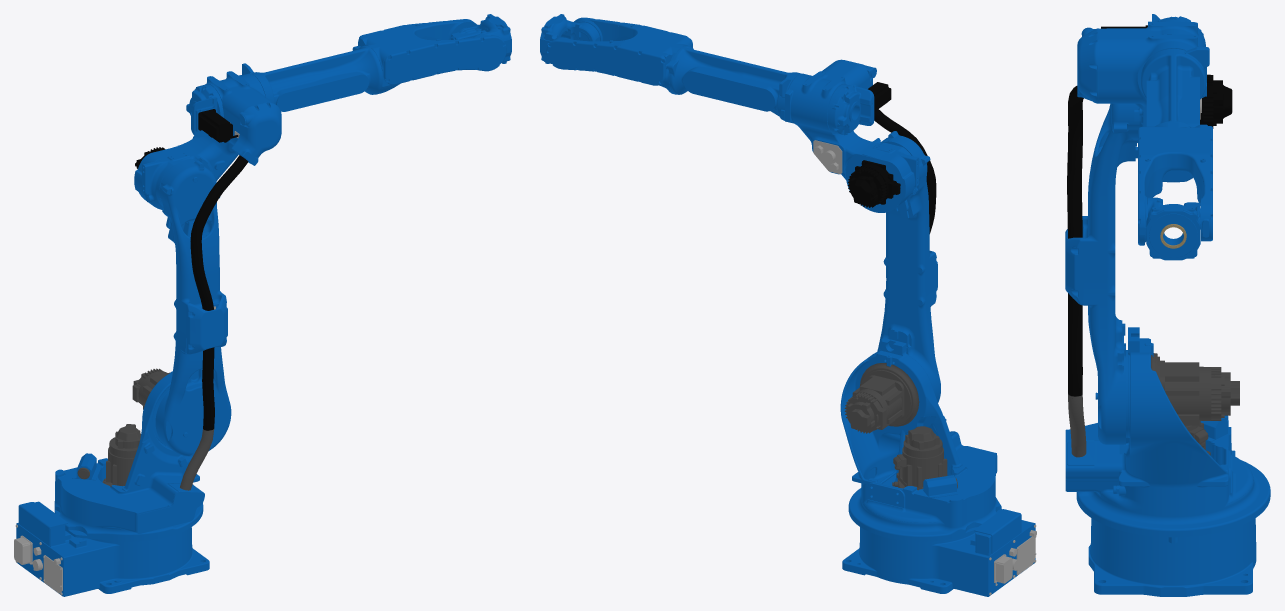
Rendered from Yaskawa_AR2010.glb.
The picture shows the model from 3 angles, left to right: view 1: azimuth 30°, elevation 25°; view 2: azimuth 150°, elevation 25°; view 3: azimuth 270°, elevation 25°; orthographic projection. The views are drawn at different scales.
Visible parts, largest first — view 1: link_2, link_1, link_4, link_0, link_3, link_5; view 2: link_1, link_3, link_4, link_0, link_2, link_5; view 3: link_1, link_2, link_0, link_4, link_3, link_5.
Part boxes in pixels (<box>): link_2: <box>155,160,231,456</box>; link_1: <box>54,368,214,541</box>; link_4: <box>242,19,506,111</box>; link_0: <box>14,501,209,596</box>; link_3: <box>134,71,281,228</box>; link_5: <box>451,14,511,63</box>; link_1: <box>840,338,1001,541</box>; link_3: <box>785,59,922,212</box>; link_4: <box>546,17,801,120</box>; link_0: <box>842,509,1036,596</box>; link_2: <box>877,131,940,402</box>; link_5: <box>540,14,599,63</box>; link_1: <box>1065,327,1270,543</box>; link_2: <box>1065,103,1140,444</box>; link_0: <box>1088,427,1256,596</box>; link_4: <box>1138,47,1212,245</box>; link_3: <box>1068,14,1232,128</box>; link_5: <box>1146,197,1200,260</box>.
Size of the model in its own units: 1.68 by 1.55 by 0.484.
